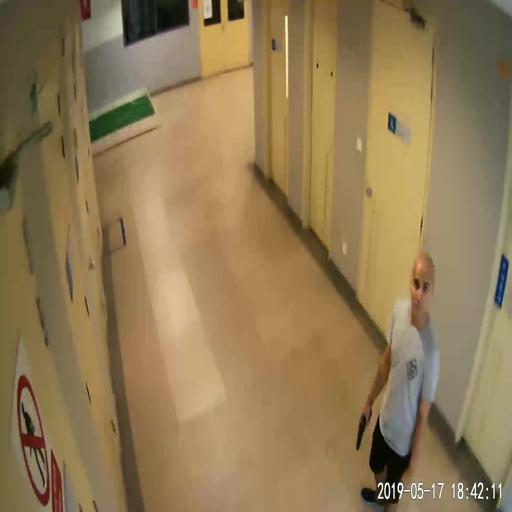pistol: (356, 403, 372, 451)
